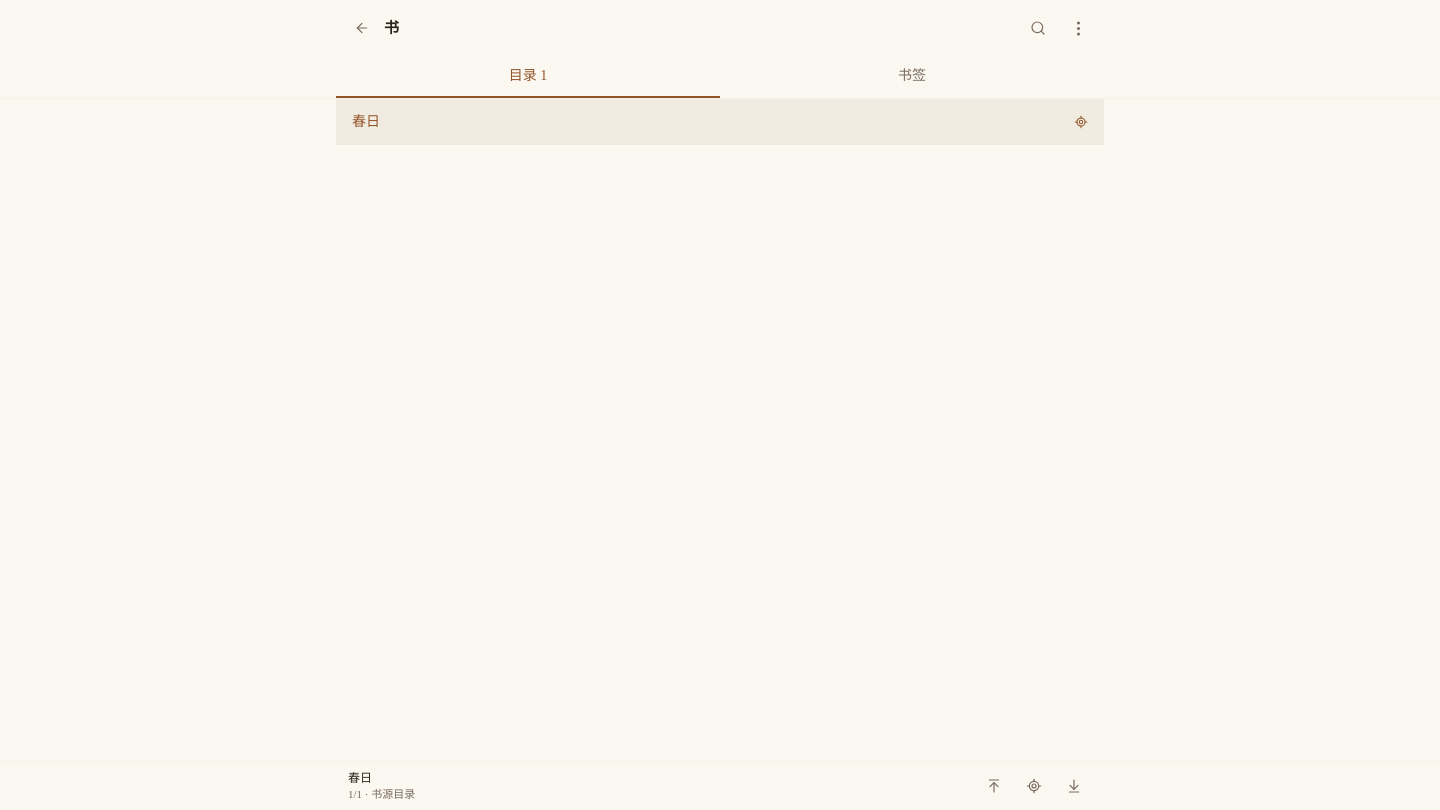
Test: ContentsPage › offers no rule tools for the contents a converted book kept
Click the button named "目录选项".
click(1078, 28)  # box [1060,10,1096,46]
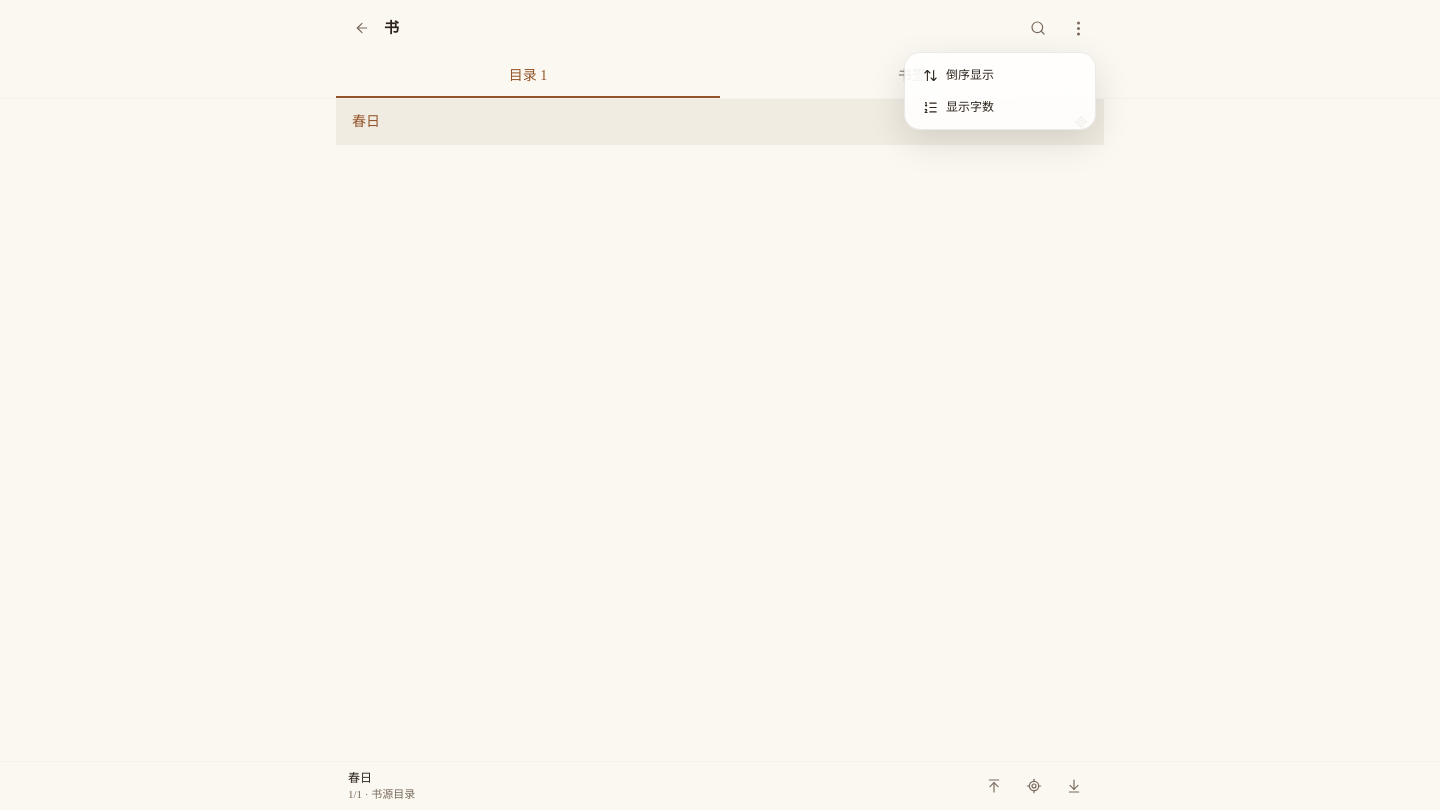
Now the menu item "显示字数" is shown, box [923,100,994,114]
